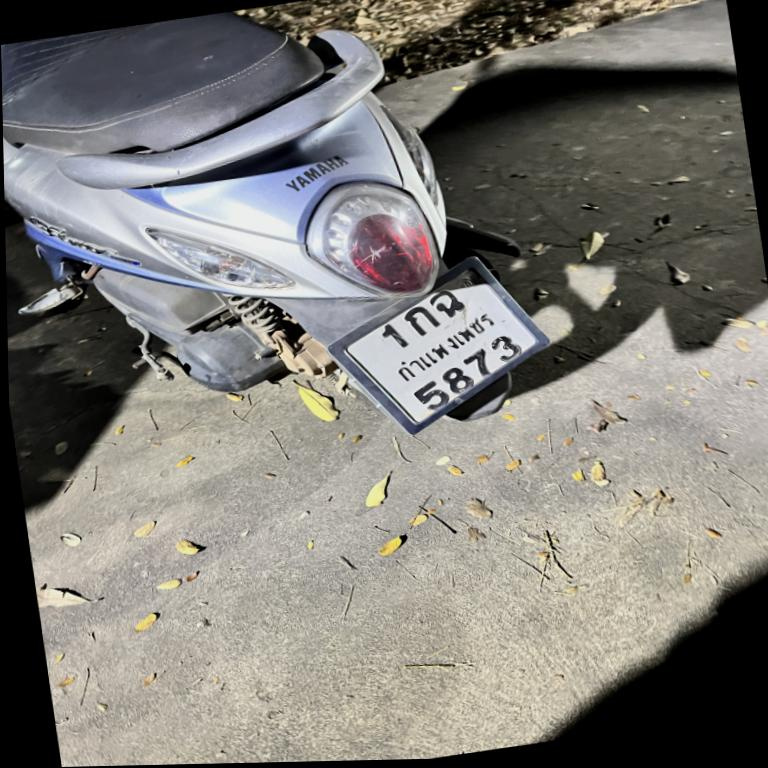license plate: (315, 243, 560, 443)
